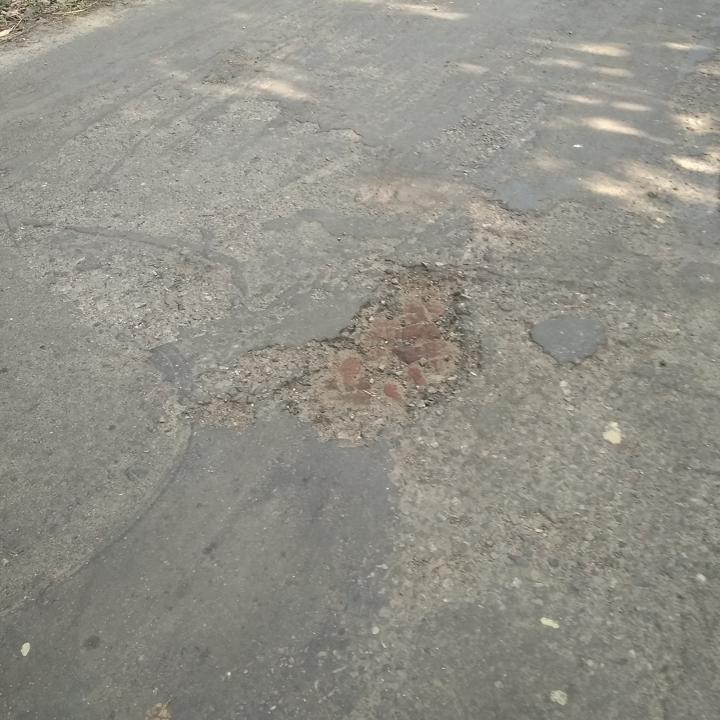pothole: (283, 256, 484, 442)
